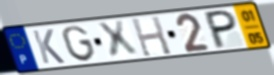2: (175, 12, 213, 55)
G: (60, 24, 98, 63)
H: (129, 15, 174, 58)
K: (30, 28, 67, 66)
P: (204, 8, 238, 51)
X: (95, 19, 142, 61)
